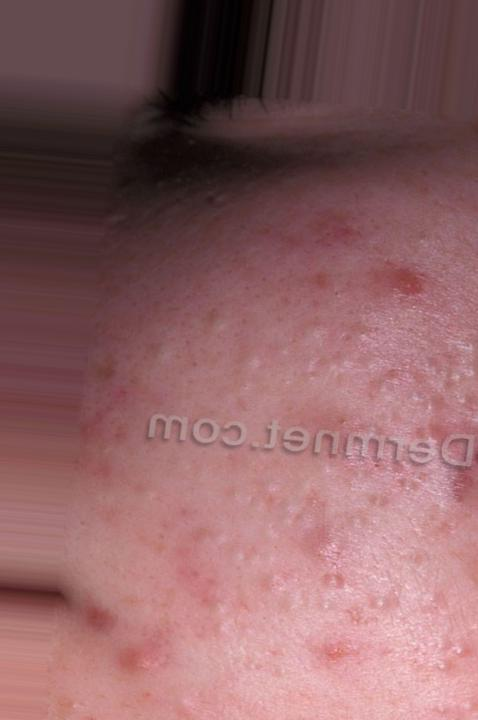Acne: (285, 485, 472, 674), (275, 207, 443, 323), (103, 596, 193, 687)
